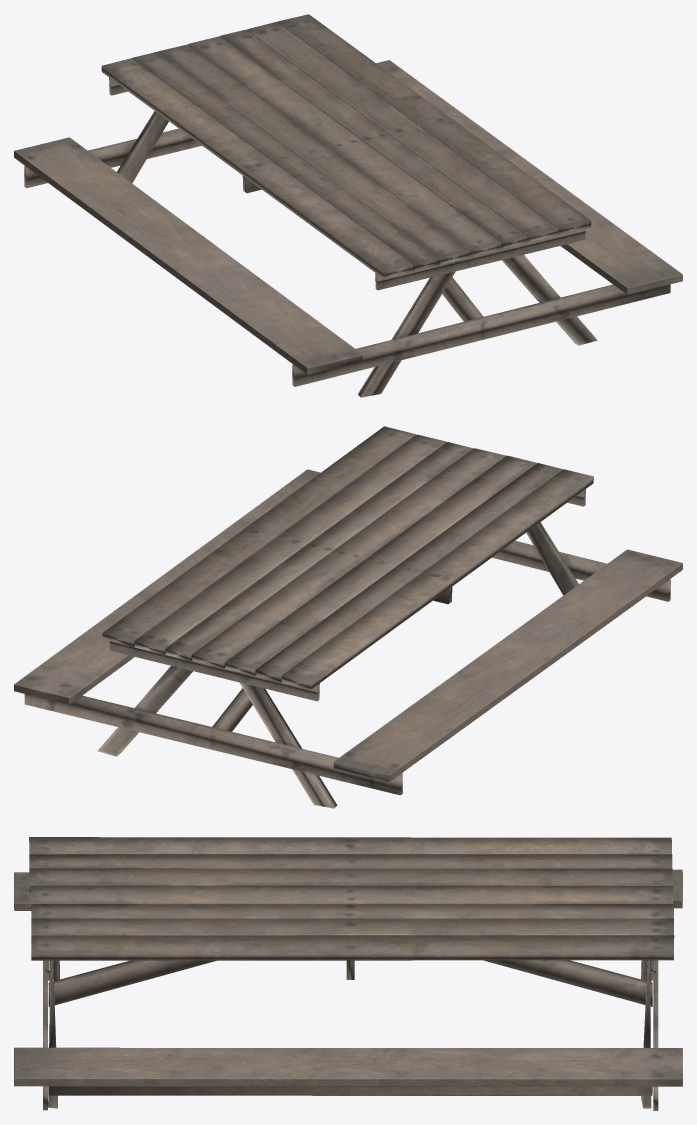
Rendered from wooden_picnic_table.glb.
The picture shows the model from 3 angles, top to bottom: view 1: azimuth 30°, elevation 25°; view 2: azimuth 150°, elevation 25°; view 3: azimuth 270°, elevation 25°; orthographic projection. The views are drawn at different scales.
Parts seen in each view (by area): view 1: wooden_picnic_table; view 2: wooden_picnic_table; view 3: wooden_picnic_table.
Boxes of the visible parts, x1,y1,x2,y2 form: wooden_picnic_table: (14,14,682,397); wooden_picnic_table: (14,426,682,808); wooden_picnic_table: (14,837,682,1110).
Size of the model in its own units: 2.24 by 0.7405 by 3.02.
2 materials, 2 textured.
